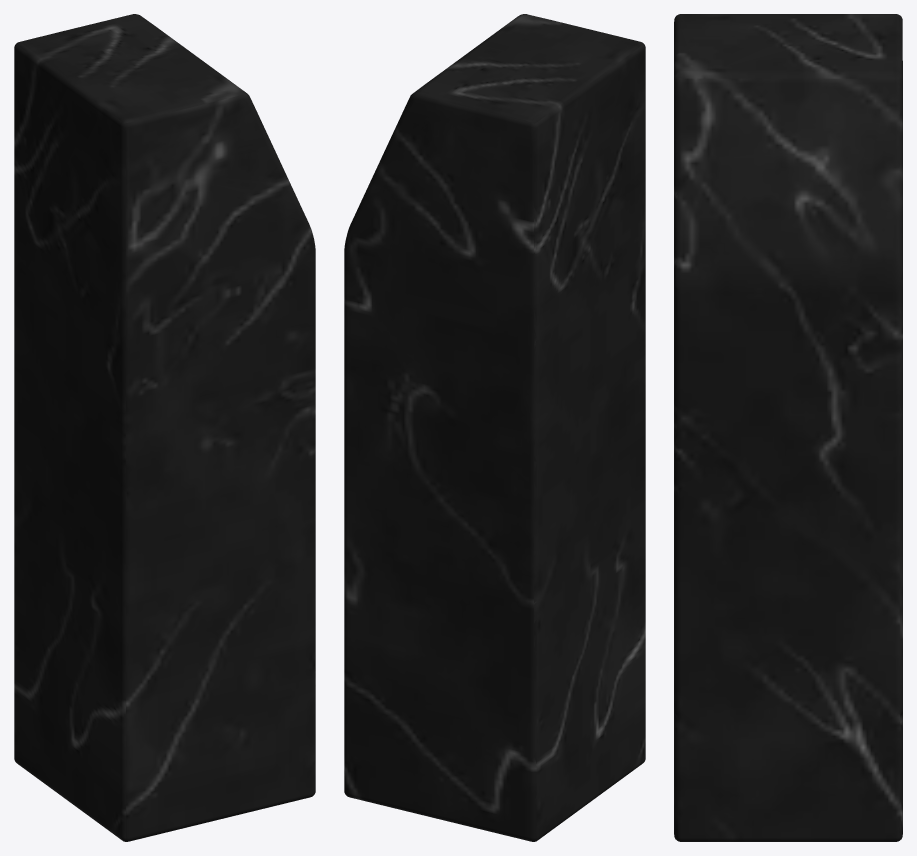
File: strelec_cerny.glb
The picture shows the model from 3 angles, left to right: view 1: azimuth 30°, elevation 25°; view 2: azimuth 150°, elevation 25°; view 3: azimuth 270°, elevation 25°; orthographic projection.
Parts seen in each view (by area): view 1: strelec_cerny; view 2: strelec_cerny; view 3: strelec_cerny.
Part boxes in pixels (x1,y1,x2,y2): strelec_cerny: (14, 14, 315, 841); strelec_cerny: (344, 14, 645, 841); strelec_cerny: (674, 14, 902, 841).
Size of the model in its own units: 0.024 by 0.0852 by 0.024.
1 material, 1 textured.
